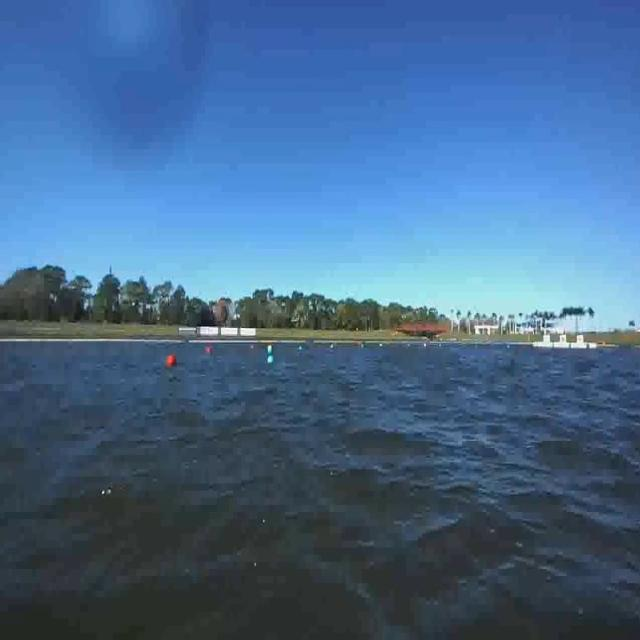green-buoy: (265, 349, 276, 368)
red-buoy: (165, 354, 175, 369)
